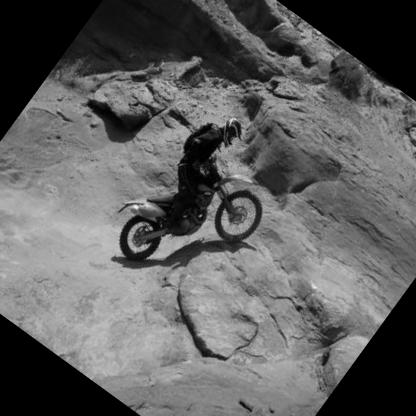moto: (106, 134, 289, 313)
